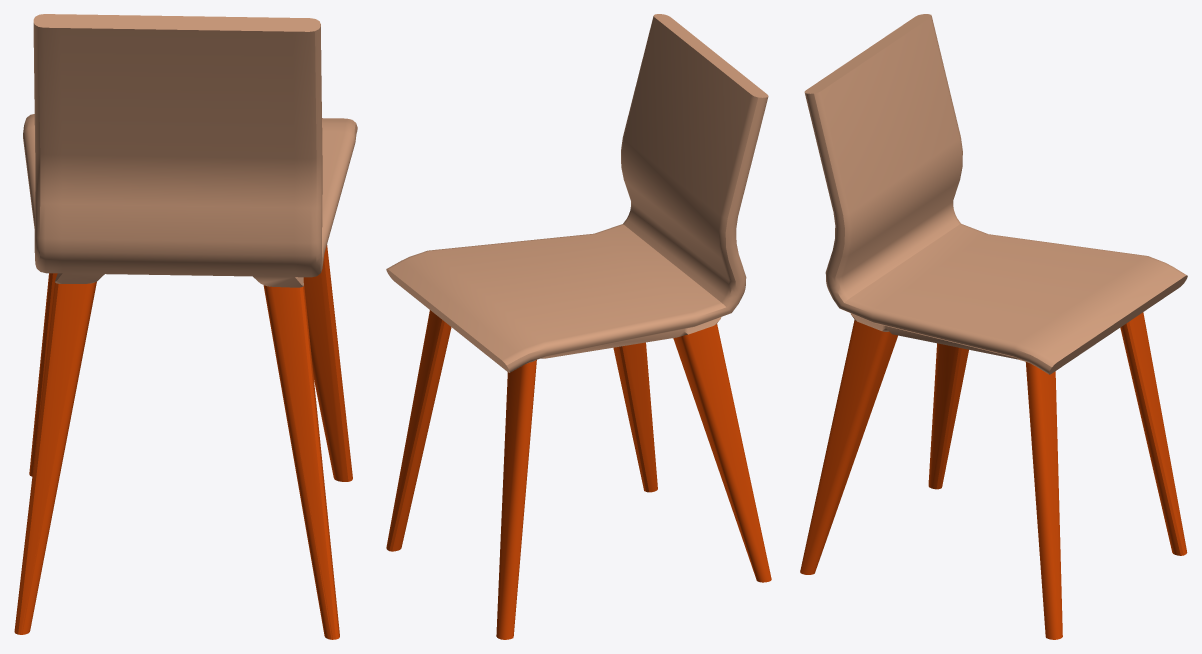
The model's file is Chair_v1.fbx.
The picture shows the model from 3 angles, left to right: view 1: azimuth 30°, elevation 25°; view 2: azimuth 150°, elevation 25°; view 3: azimuth 270°, elevation 25°; orthographic projection. The views are drawn at different scales.
Visible parts, largest first — view 1: Chair; view 2: Chair; view 3: Chair.
Boxes of the visible parts, x1,y1,x2,y2 form: Chair: [14, 14, 357, 639]; Chair: [386, 14, 771, 639]; Chair: [800, 14, 1187, 639].
Bounding box in the file's own units: 73.01 × 103 × 75.84.
